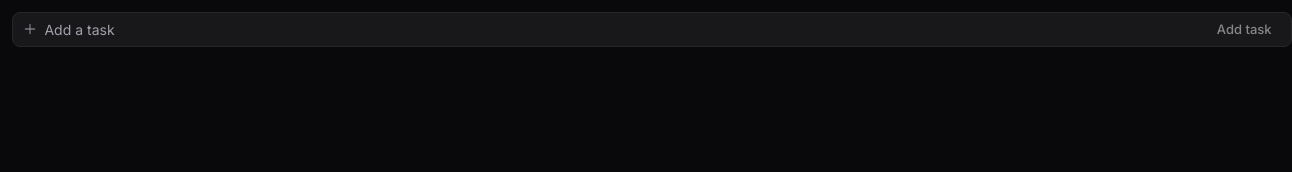
Test case: QuickAddTask › test quick add creates a task and keeps focus
This screenshot has width=1292, height=172.
Type "Call Ana" into the field labelled "Add a task" at (622, 29), box [44,19,1199,40]
Then press Enter
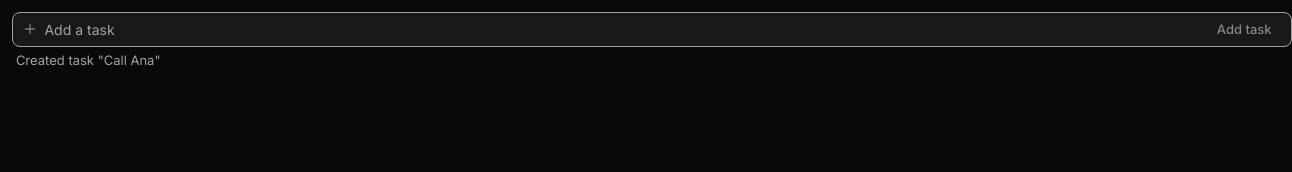
Expected: the text "Created task \"Call Ana\"" is shown, [16,52,160,68]
